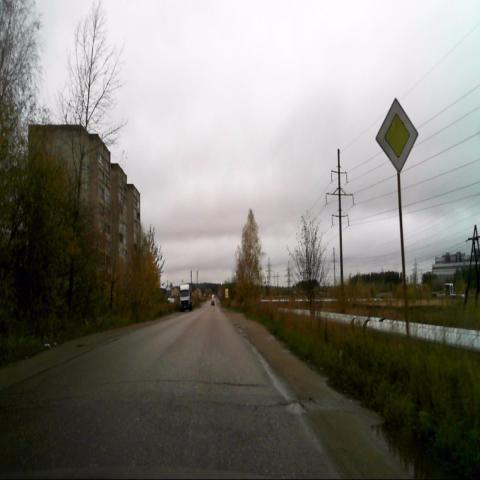2_1: (375, 98, 419, 174)
